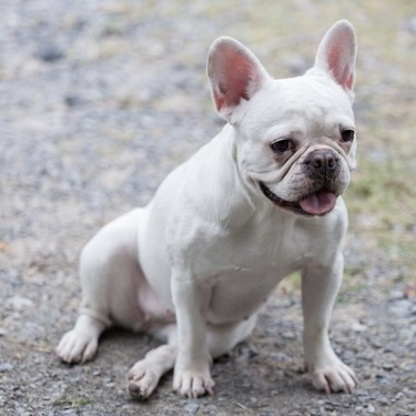bulldog: (52, 15, 367, 400)
